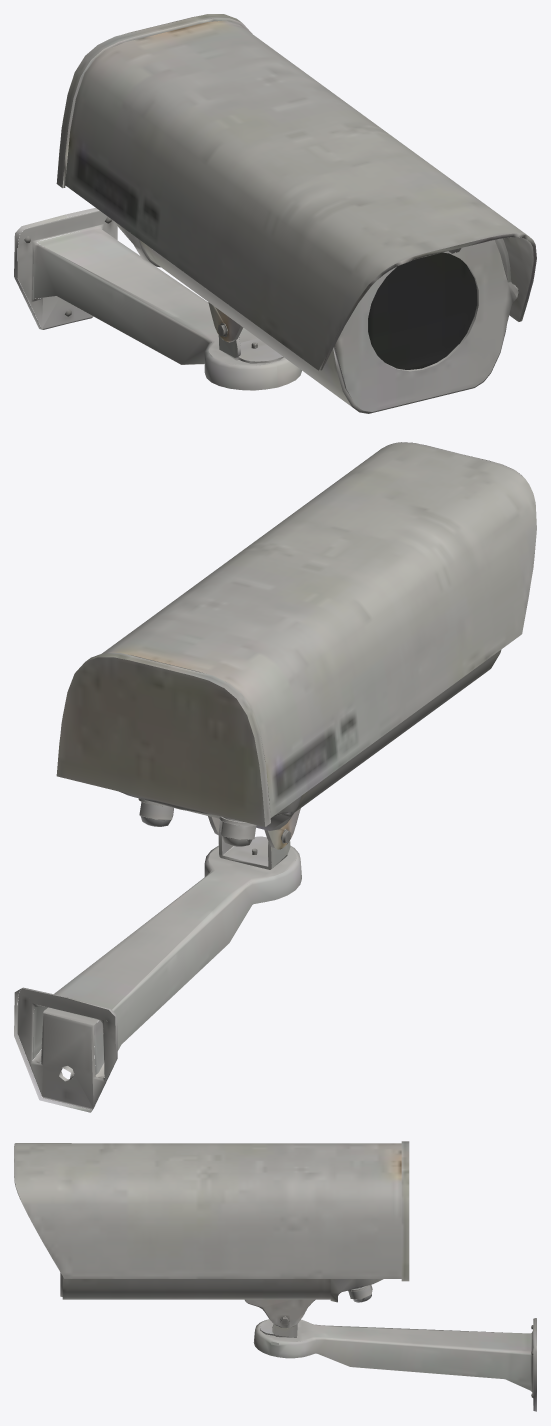
The model's file is security_camera.glb.
The picture shows the model from 3 angles, top to bottom: view 1: azimuth 30°, elevation 25°; view 2: azimuth 150°, elevation 25°; view 3: azimuth 270°, elevation 25°; orthographic projection. The views are drawn at different scales.
Visible parts, largest first — view 1: security_camera; view 2: security_camera; view 3: security_camera.
Part boxes in pixels (x1=…): security_camera: x1=14, y1=14, x2=536, y2=413; security_camera: x1=14, y1=442, x2=536, y2=1112; security_camera: x1=14, y1=1141, x2=536, y2=1411.
Size of the model in its own units: 0.1695 by 0.286 by 0.5537.
2 materials, 2 textured.
